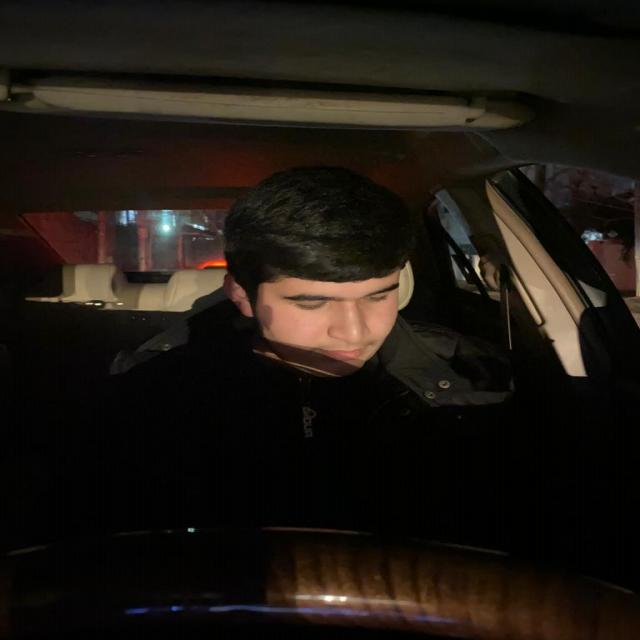drowsy: (238, 186, 422, 383)
